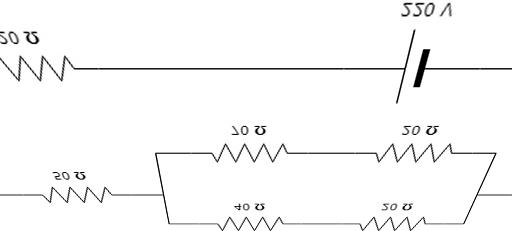resistor: (0, 49, 88, 87), (358, 135, 458, 167), (201, 137, 297, 167), (347, 205, 436, 230), (39, 183, 133, 205), (204, 209, 293, 230)
